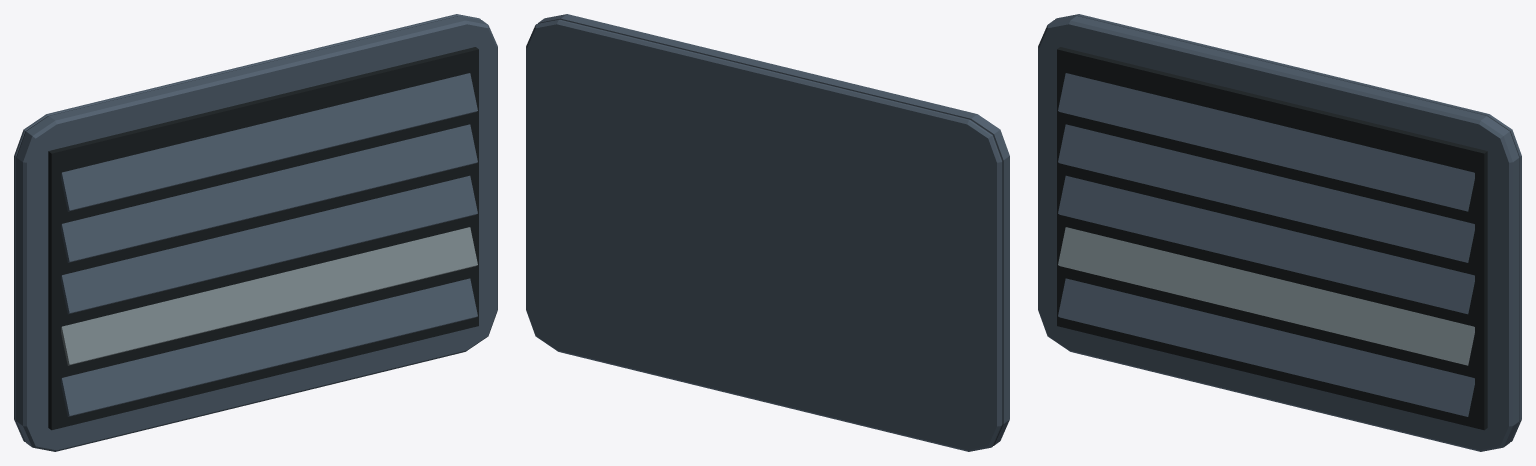
File: K-01_vent_grille.glb
3 renders of one model, left to right at view 1: azimuth 30°, elevation 25°; view 2: azimuth 150°, elevation 25°; view 3: azimuth 330°, elevation 25°, orthographic.
Visible parts, largest first — view 1: K-01_vent_grille; view 2: K-01_vent_grille; view 3: K-01_vent_grille.
Part boxes in pixels (<box>): K-01_vent_grille: <box>14,14,497,451</box>; K-01_vent_grille: <box>526,14,1009,451</box>; K-01_vent_grille: <box>1038,14,1521,451</box>.
Bounding box in the file's own units: 0.6 × 0.4 × 0.052.
